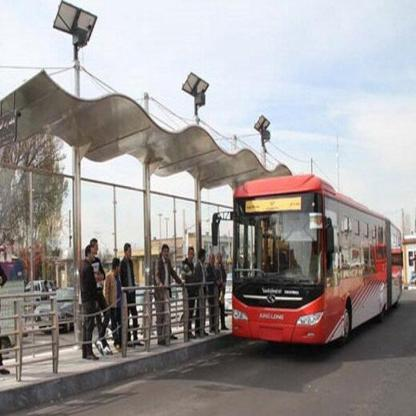Bus: (224, 182, 407, 348)
Car: (28, 281, 85, 340), (22, 278, 46, 306)
